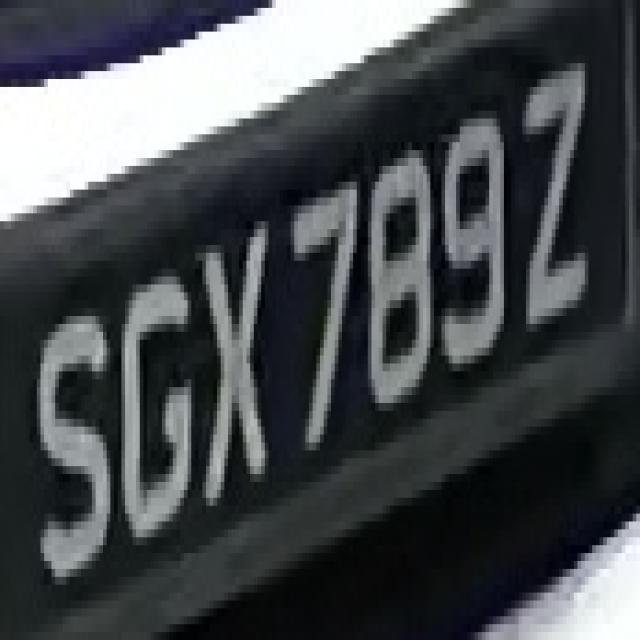7: (287, 158, 360, 474)
8: (361, 118, 442, 411)
9: (430, 95, 508, 379)
G: (106, 277, 198, 553)
S: (33, 284, 110, 600)
X: (195, 213, 279, 538)
Z: (526, 40, 600, 316)
